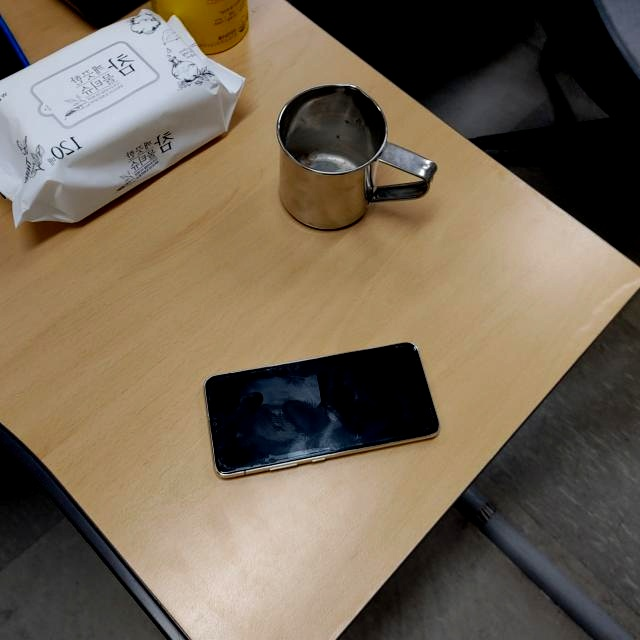cup: (273, 82, 437, 234)
phone: (205, 341, 442, 479)
